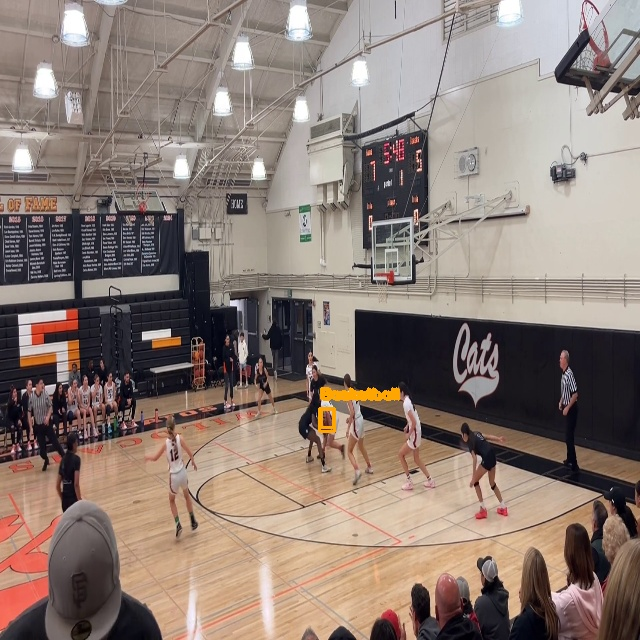Basketball: (321, 409, 333, 427)
